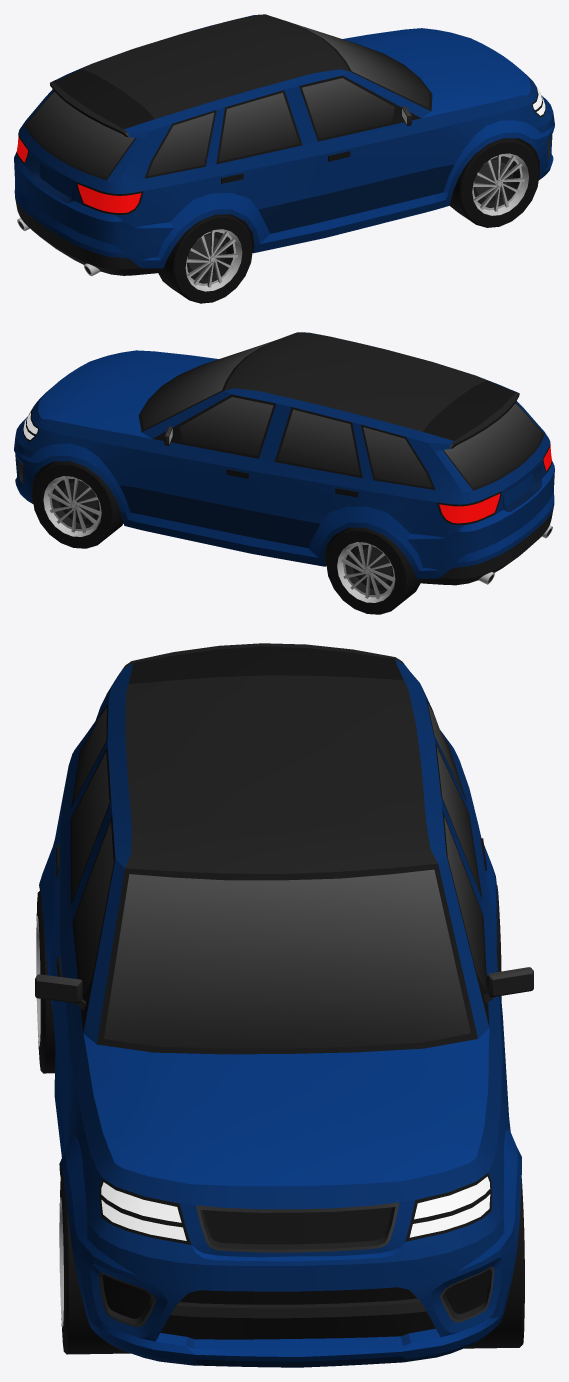
File: Car_109.glb
3 views of the same model, one above another, from view 1: azimuth 30°, elevation 25°; view 2: azimuth 150°, elevation 25°; view 3: azimuth 270°, elevation 25° (orthographic). The views are drawn at different scales.
Visible parts, largest first — view 1: Car_109, wheel_3_Car_109_Wheel_2R, wheel_1_Car_109_Wheel_1R; view 2: Car_109, wheel_2_Car_109_Wheel_2L, wheel_0_Car_109_Wheel_1L; view 3: Car_109, wheel_1_Car_109_Wheel_1R, wheel_0_Car_109_Wheel_1L, wheel_3_Car_109_Wheel_2R.
Boxes of the visible parts, x1,y1,x2,y2 form: Car_109: (14, 14, 554, 276); wheel_3_Car_109_Wheel_2R: (158, 214, 252, 303); wheel_1_Car_109_Wheel_1R: (449, 138, 539, 227); Car_109: (14, 332, 554, 585); wheel_2_Car_109_Wheel_2L: (326, 527, 420, 614); wheel_0_Car_109_Wheel_1L: (32, 461, 123, 548); Car_109: (35, 643, 533, 1367); wheel_1_Car_109_Wheel_1R: (59, 1173, 130, 1354); wheel_0_Car_109_Wheel_1L: (464, 1178, 524, 1348); wheel_3_Car_109_Wheel_2R: (36, 890, 55, 1073).
Size of the model in its own units: 4.74 by 1.72 by 2.13.
Materials: 2 (2 with a texture image).
